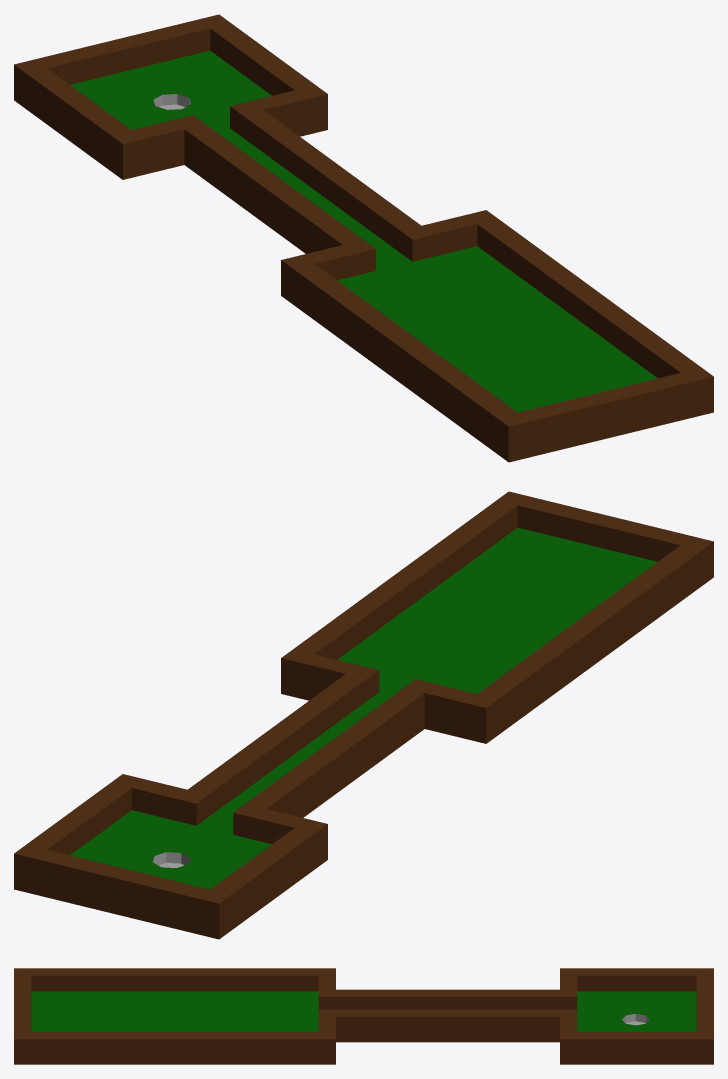
The model's file is Course2.fbx.
The picture shows the model from 3 angles, top to bottom: view 1: azimuth 30°, elevation 25°; view 2: azimuth 150°, elevation 25°; view 3: azimuth 270°, elevation 25°; orthographic projection. The views are drawn at different scales.
Visible parts, largest first — view 1: pCube2; view 2: pCube2; view 3: pCube2.
Boxes of the visible parts, left/top/right/bottom form: pCube2: left=14, top=14, right=713, bottom=462; pCube2: left=14, top=491, right=713, bottom=939; pCube2: left=14, top=968, right=713, bottom=1064.
Bounding box in the file's own units: 2.92 × 0.4871 × 12.18.
